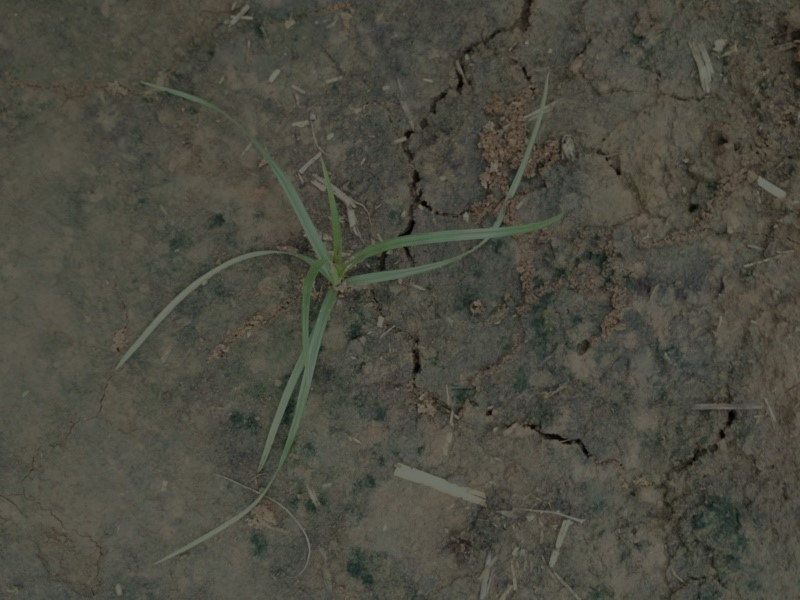sedge: (112, 66, 565, 570)
